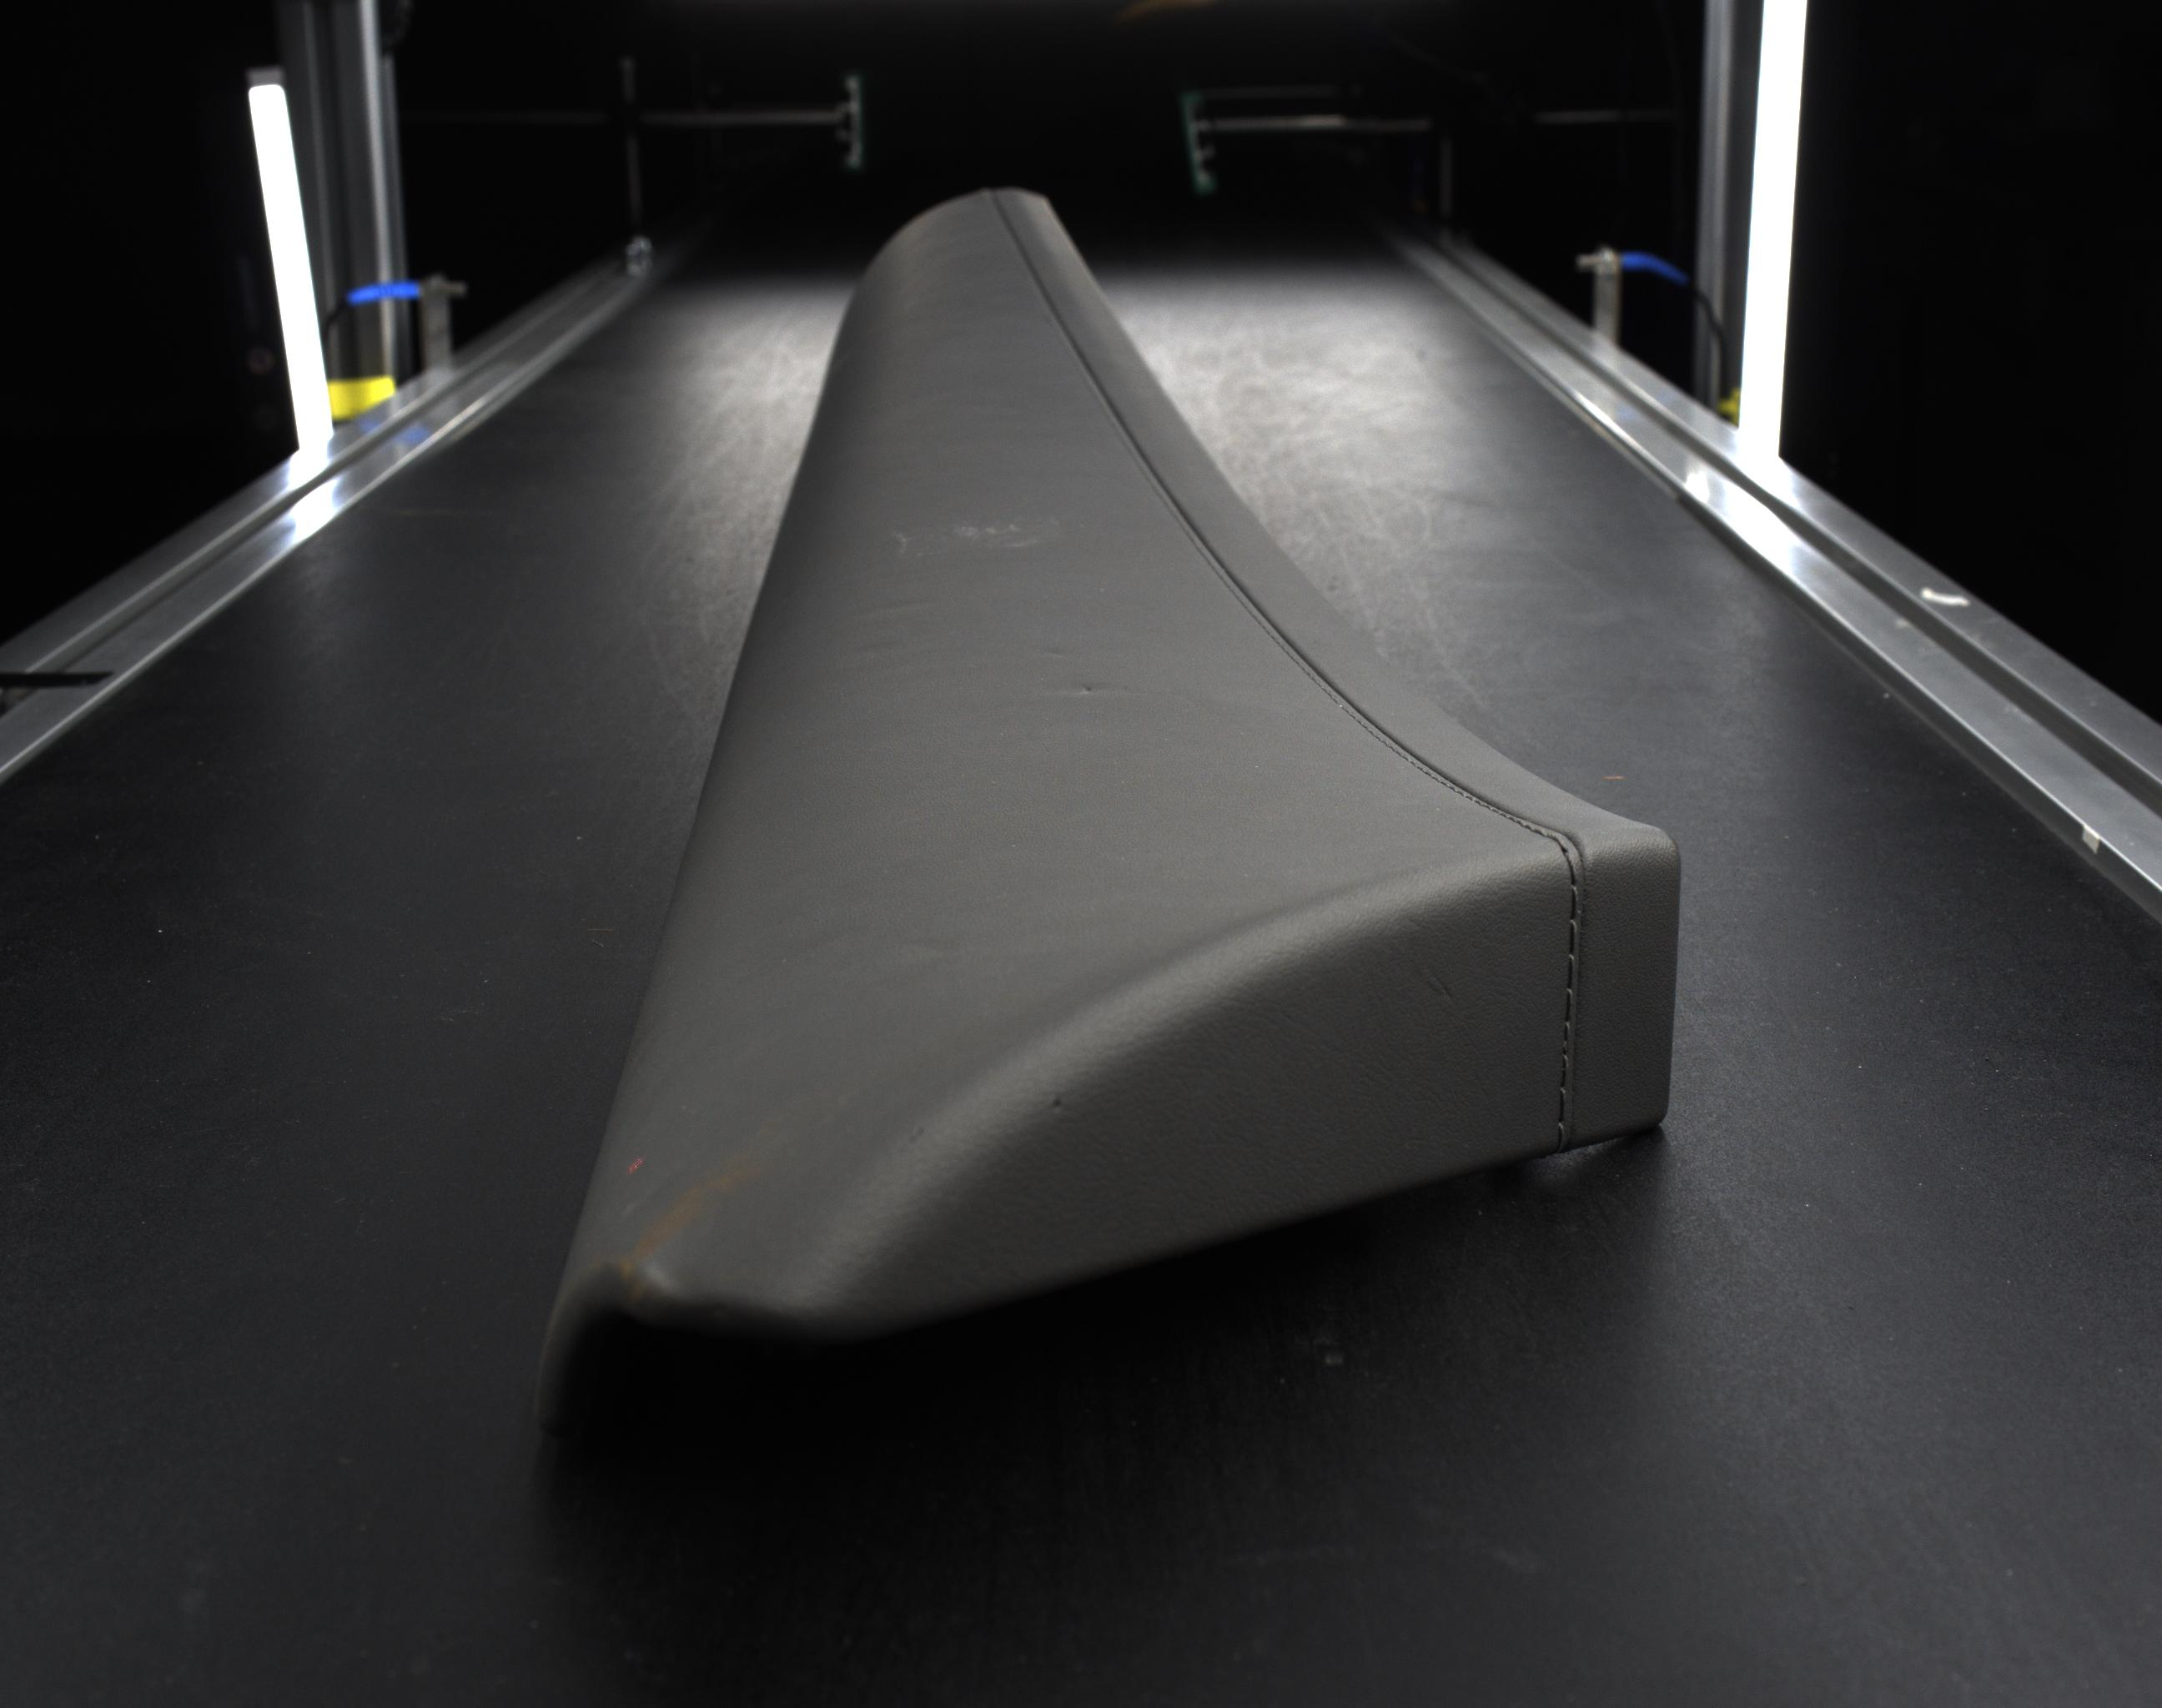vline: (1569, 883, 1579, 916), (1560, 1055, 1569, 1085), (1562, 1022, 1571, 1050), (1558, 1088, 1567, 1115), (1557, 1122, 1565, 1146), (1567, 955, 1574, 983), (1565, 987, 1572, 1015), (1569, 922, 1576, 948)
